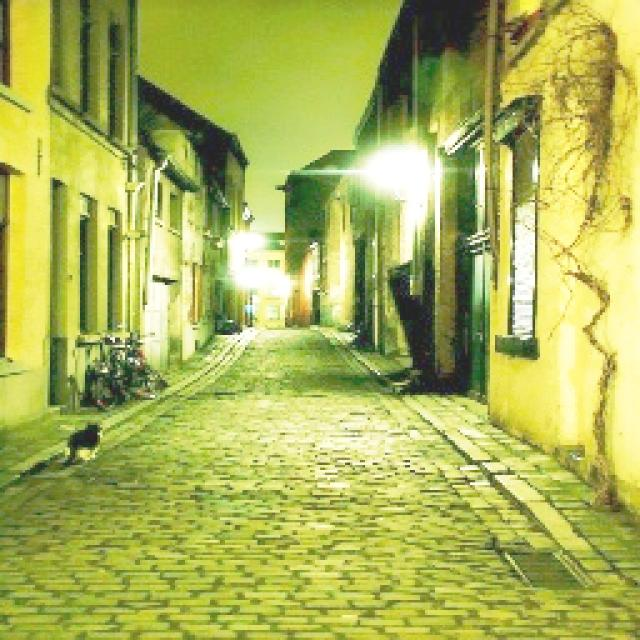cat: (50, 406, 120, 475)
